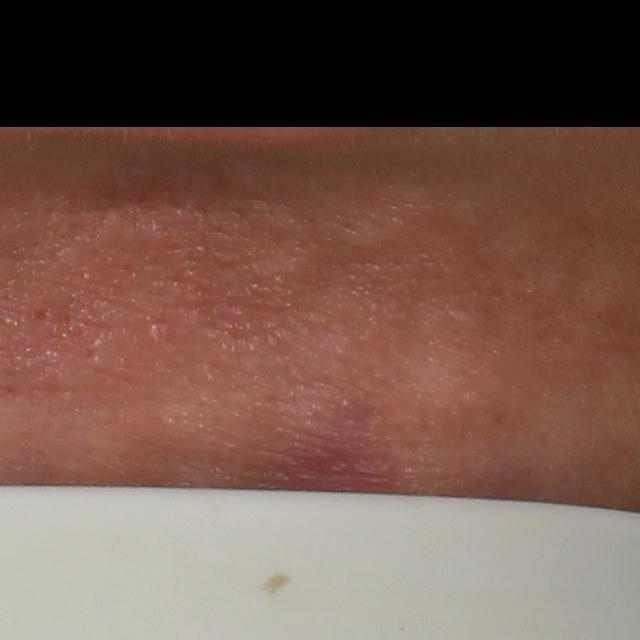hypertrophic_scar: (90, 206, 175, 254), (333, 208, 412, 258)
